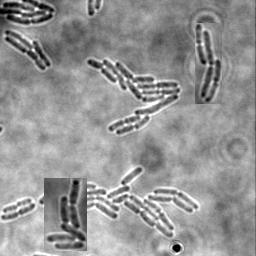Dividing: (1, 204, 37, 222), (3, 199, 33, 215)
Microcolony: (40, 167, 199, 238), (87, 59, 181, 136), (44, 178, 87, 251), (195, 23, 222, 104), (5, 30, 52, 72), (1, 1, 56, 26)
